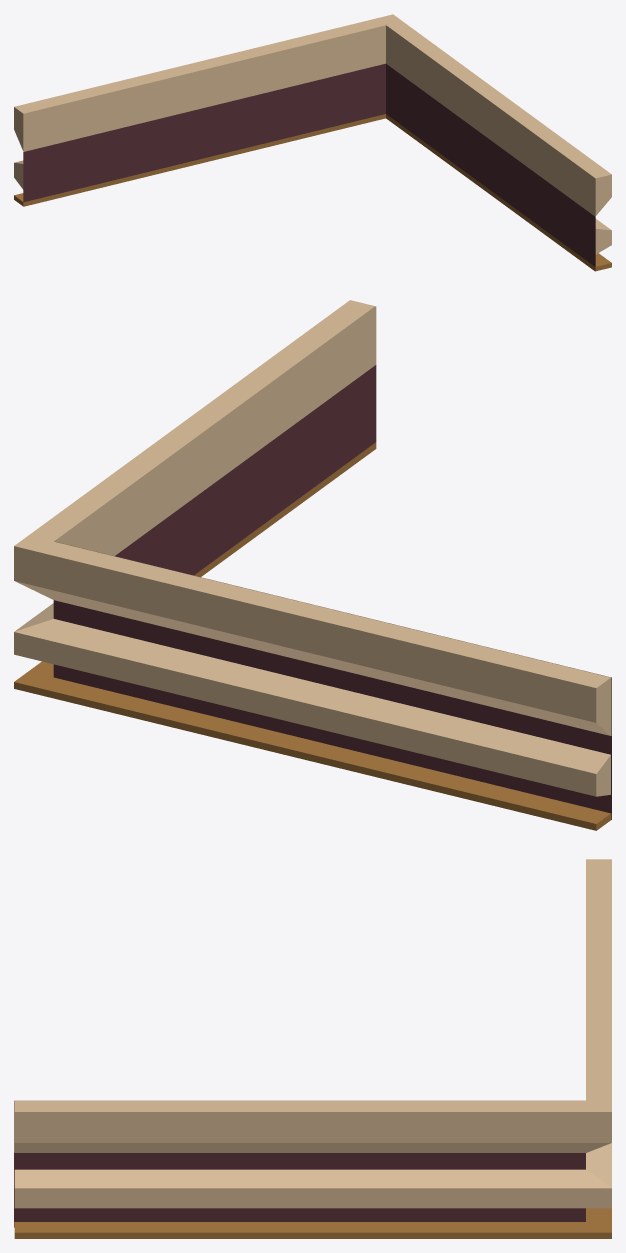
The model's file is SM_Roof_Backside_Corner_Empire.fbx.
3 views of the same model, one above another, from view 1: azimuth 30°, elevation 25°; view 2: azimuth 150°, elevation 25°; view 3: azimuth 270°, elevation 25° (orthographic). The views are drawn at different scales.
Parts seen in each view (by area): view 1: SM_Roof_Backside_Corner_Empire; view 2: SM_Roof_Backside_Corner_Empire; view 3: SM_Roof_Backside_Corner_Empire.
Part boxes in pixels (bbox=[...]): SM_Roof_Backside_Corner_Empire: bbox=[14, 14, 611, 271]; SM_Roof_Backside_Corner_Empire: bbox=[14, 300, 611, 830]; SM_Roof_Backside_Corner_Empire: bbox=[14, 859, 611, 1238].
Size of the model in its own units: 3 by 0.7024 by 3.
